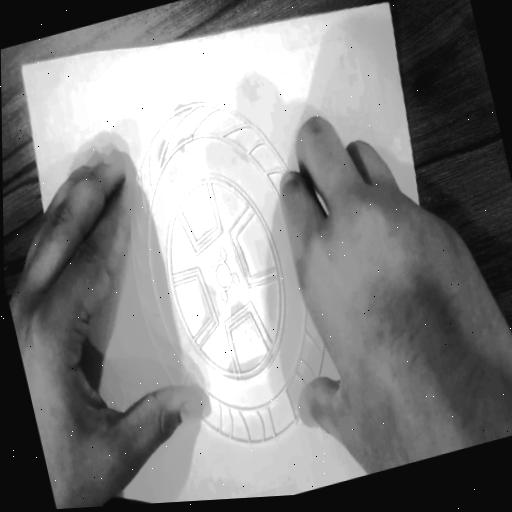tire: (106, 71, 360, 485)
top_left: (383, 0, 394, 10)
top_right: (14, 57, 28, 73)
